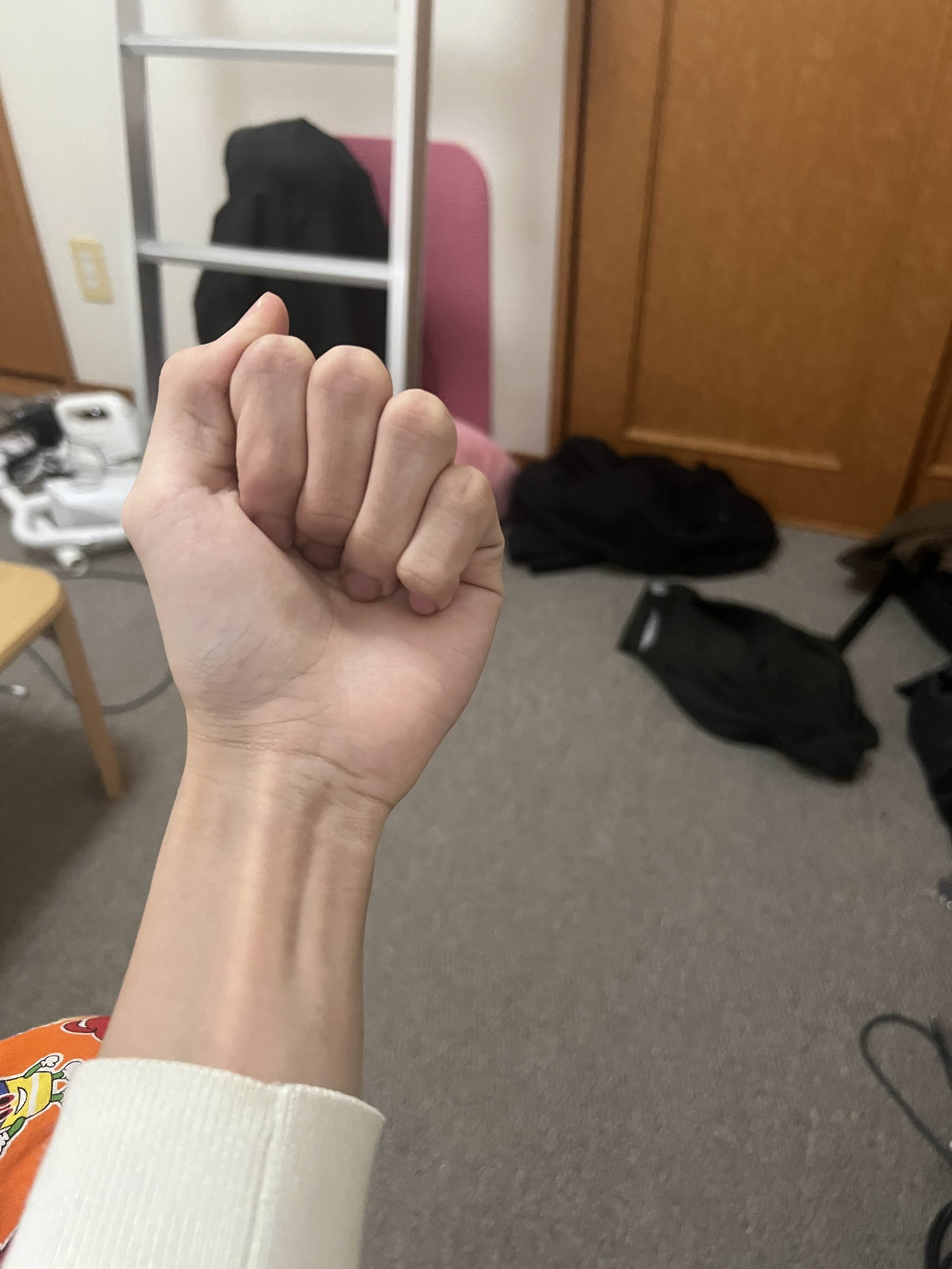right_closed_palm: (161, 325, 477, 752)
